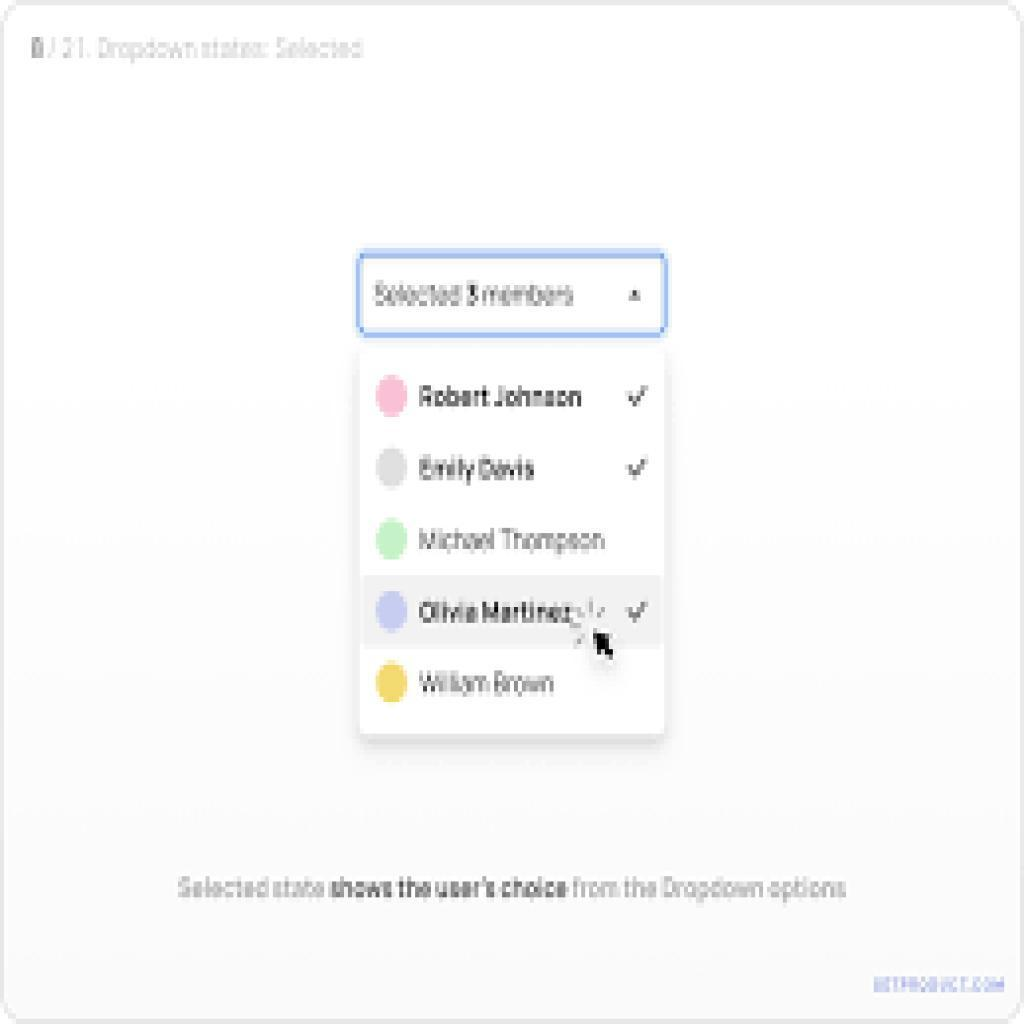dropdown: (361, 255, 668, 337)
